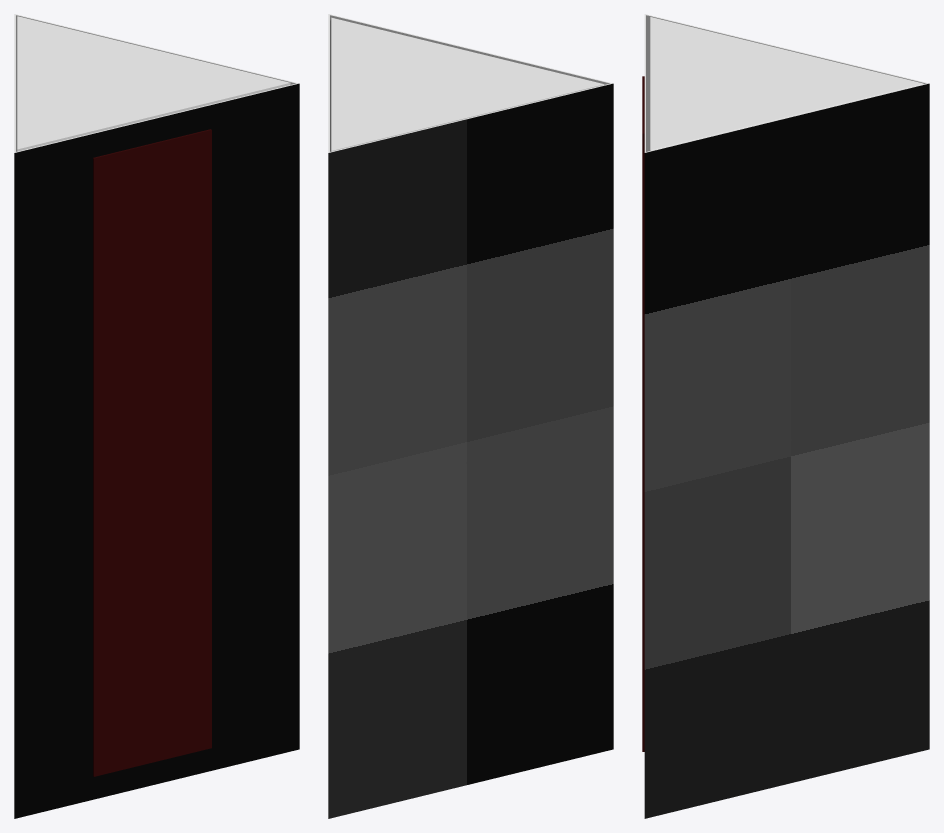
The picture shows the model from 3 angles, left to right: view 1: azimuth 30°, elevation 25°; view 2: azimuth 150°, elevation 25°; view 3: azimuth 270°, elevation 25°; orthographic projection.
Parts seen in each view (by area): view 1: polySurface1 d01 ked_90, d01 ked_90 polySurface2, ked_90 d02; view 2: polySurface1 d01 ked_90, ked_90 d02; view 3: polySurface1 d01 ked_90, ked_90 d02, d01 ked_90 polySurface2.
Boxes of the visible parts, x1,y1,x2,y2 form: polySurface1 d01 ked_90: (14, 14, 299, 818); d01 ked_90 polySurface2: (93, 129, 211, 776); ked_90 d02: (17, 16, 290, 151); polySurface1 d01 ked_90: (328, 14, 613, 818); ked_90 d02: (330, 17, 604, 151); polySurface1 d01 ked_90: (644, 14, 929, 818); ked_90 d02: (650, 17, 923, 150); d01 ked_90 polySurface2: (642, 76, 644, 751).
Size of the model in its own units: 0.0026 by 0.0058 by 0.00227.
Materials: 3 (3 with a texture image).
